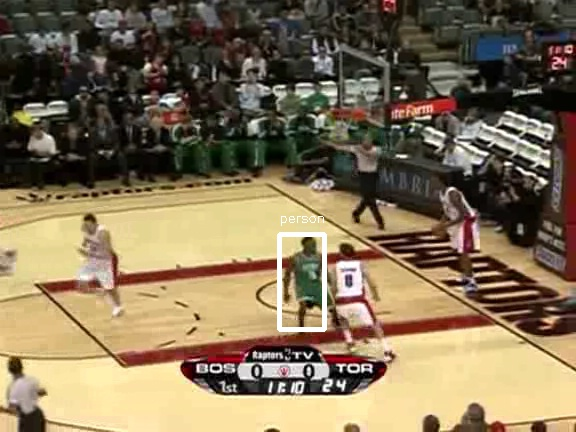person: (295, 241, 329, 322), (294, 241, 328, 322), (296, 241, 330, 322), (295, 240, 329, 321), (295, 242, 329, 323)
target_negative: (69, 229, 232, 417), (357, 171, 510, 338), (472, 189, 571, 390), (75, 224, 371, 241), (348, 217, 359, 423), (522, 315, 537, 414)
